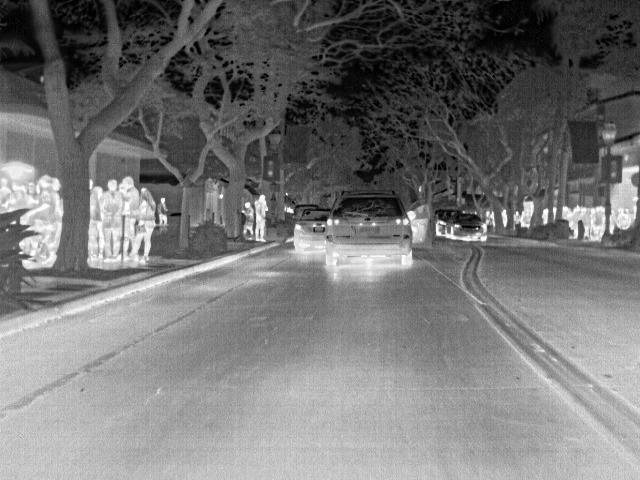car: (325, 190, 415, 266), (294, 208, 333, 251), (448, 213, 492, 244), (433, 210, 467, 236)
person: (19, 173, 55, 229), (122, 174, 142, 262), (103, 179, 124, 259), (137, 186, 156, 262), (252, 194, 269, 244), (238, 198, 255, 239), (158, 198, 171, 226), (499, 207, 511, 229)
